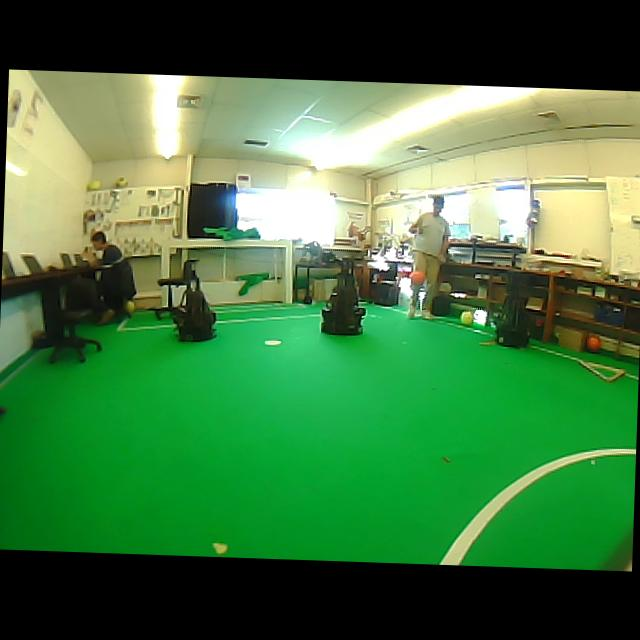ball: (585, 334, 601, 352), (409, 269, 425, 285), (459, 310, 472, 324), (124, 299, 134, 315), (115, 177, 128, 187), (87, 179, 99, 189)
goal: (284, 241, 292, 302)
robot: (173, 259, 215, 340), (321, 261, 364, 334), (496, 290, 529, 347)
